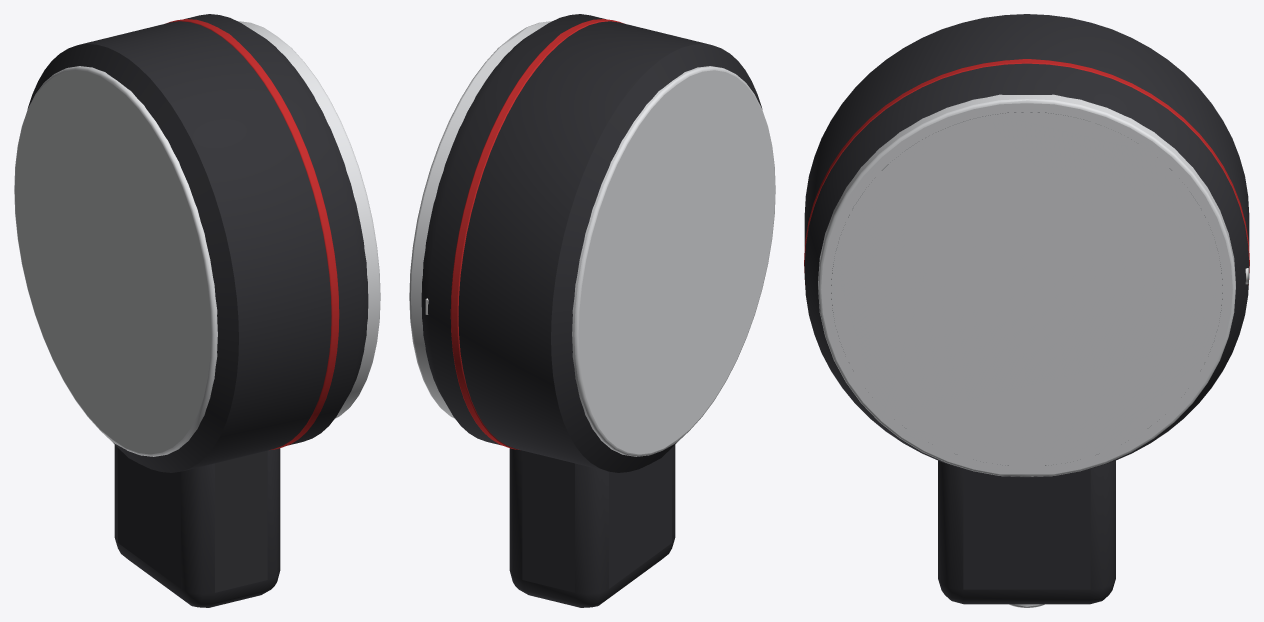
The model's file is nikon_ftz_ii.glb.
The picture shows the model from 3 angles, left to right: view 1: azimuth 30°, elevation 25°; view 2: azimuth 150°, elevation 25°; view 3: azimuth 270°, elevation 25°; orthographic projection.
Visible parts, largest first — view 1: Nikon FTZ II; view 2: Nikon FTZ II; view 3: Nikon FTZ II.
Part boxes in pixels (x1,y1,x2,y2): Nikon FTZ II: (14, 14, 380, 607); Nikon FTZ II: (409, 14, 775, 607); Nikon FTZ II: (804, 14, 1249, 607).
Bounding box in the file's own units: 0.0305 × 0.0956 × 0.0702.
